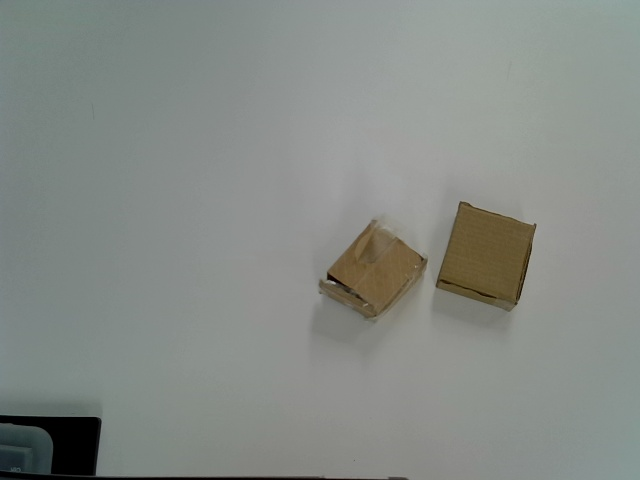defect: (318, 218, 428, 323)
normal: (436, 201, 539, 313)
